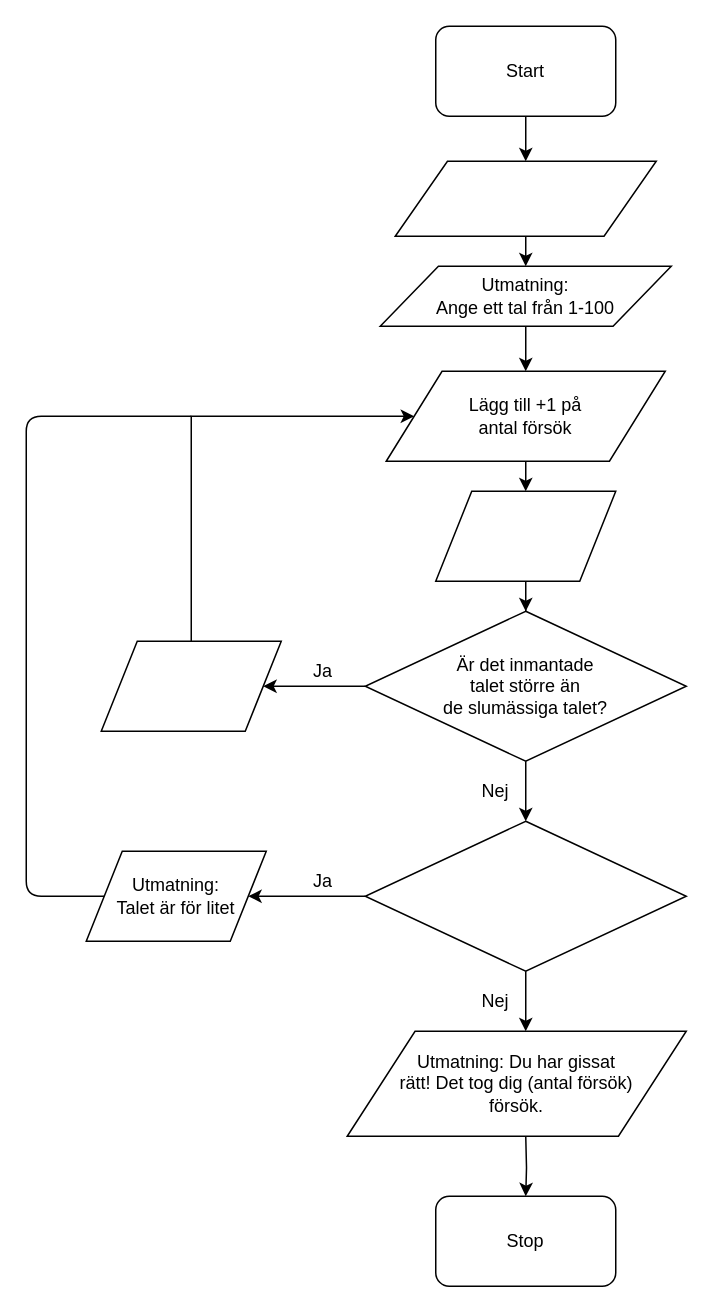
Some shapes in this 713 by 1313 pixel diagram are drawn without their labels. The box of each missing label's shape, as (x1, y1, x2, y2) in pixels:
Inmatning: Heltalsvariabel tal: (434, 490, 616, 581)
Skapa ett slumpmässigt tal från 1-100: (394, 160, 656, 236)
Utmatning: Talet är för stort: (100, 640, 281, 731)
Är det inmantade talet mindre än de slumässiga talet?: (364, 820, 686, 971)
